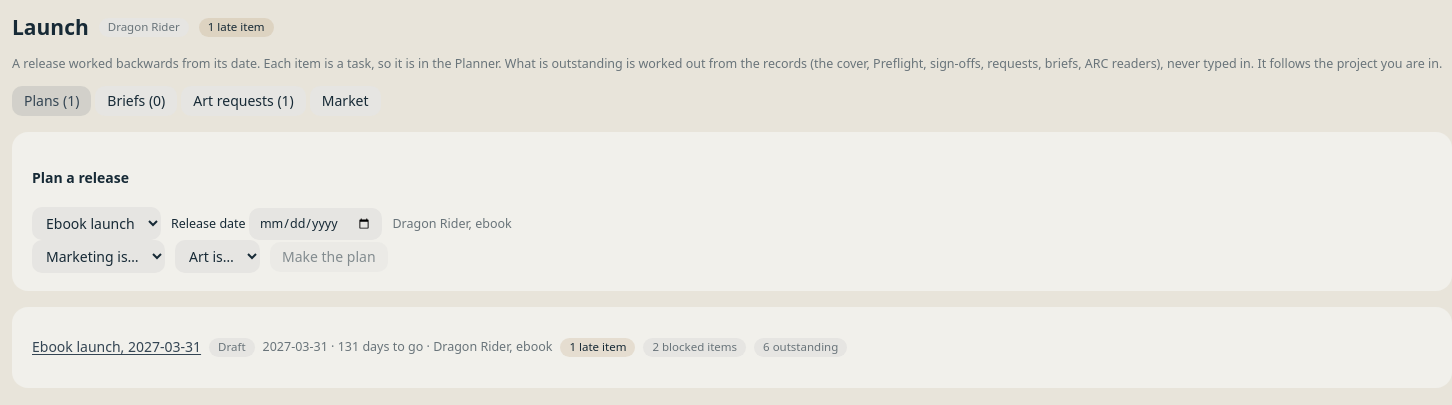
Test: the Launch page › art requests: a request can be fulfilled by offering an asset; a refusal is shown in the Studio’s own words
Click the tab "Art requests (1)" at x=244, y=101, box [181,86,306,116]
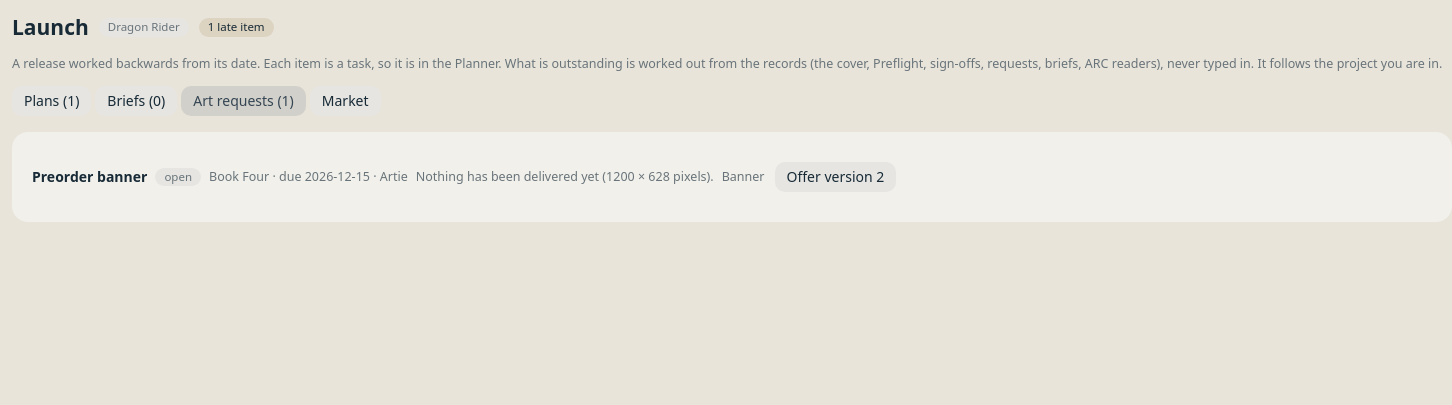
expect the text "Preorder banner" is shown: met, box [32,167,147,187]
expect the text "Nothing has been delivered yet" is shown: met, box [416,168,714,185]
expect the button "Offer version 2" is shown: met
Click the button "Offer version 2" at x=835, y=177, box [774,162,896,192]
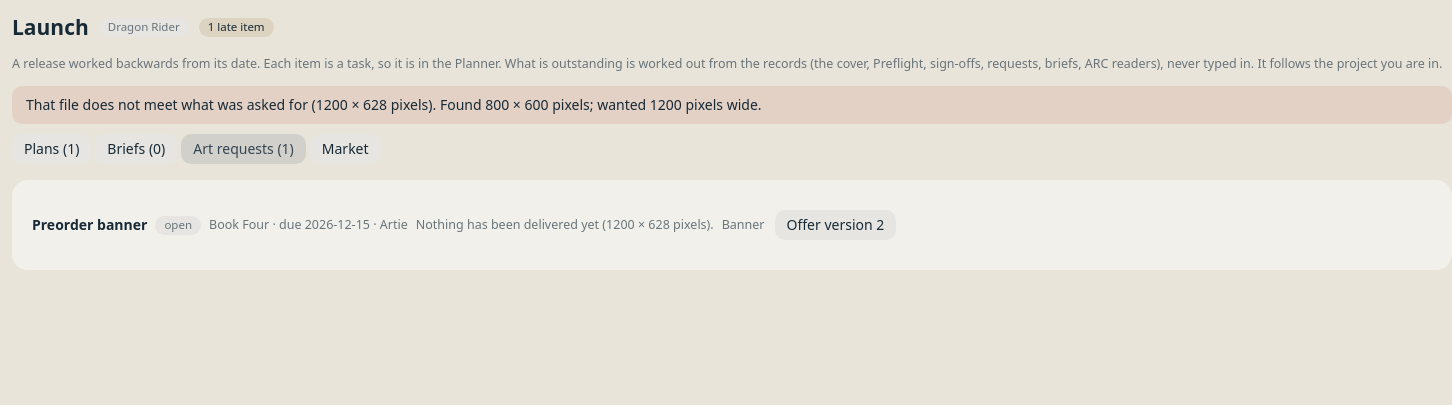
expect the message shows "That file does not meet what was asked for (1200 × 628 pixels). Found 800 × 600 pixels; wanted 1200 pixels wide.": met, box [26,95,762,114]
